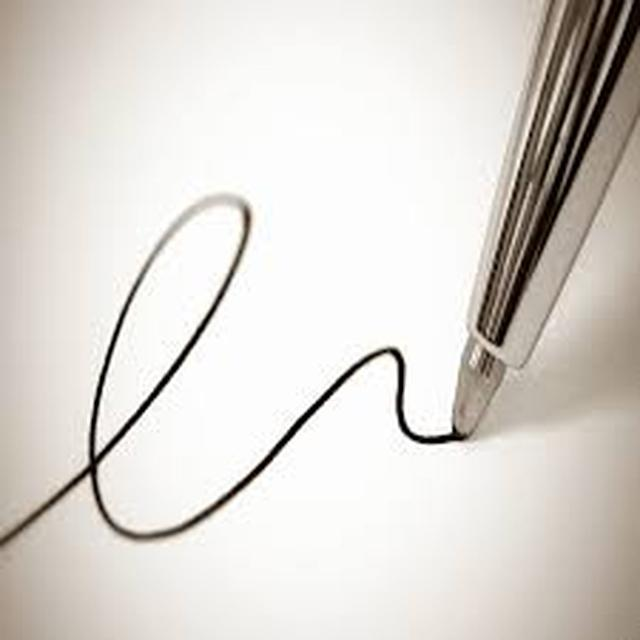pen: (435, 3, 602, 487)
